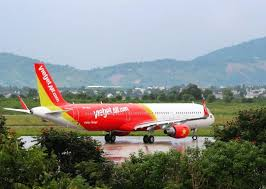maybay_dansu: (13, 69, 217, 151)
